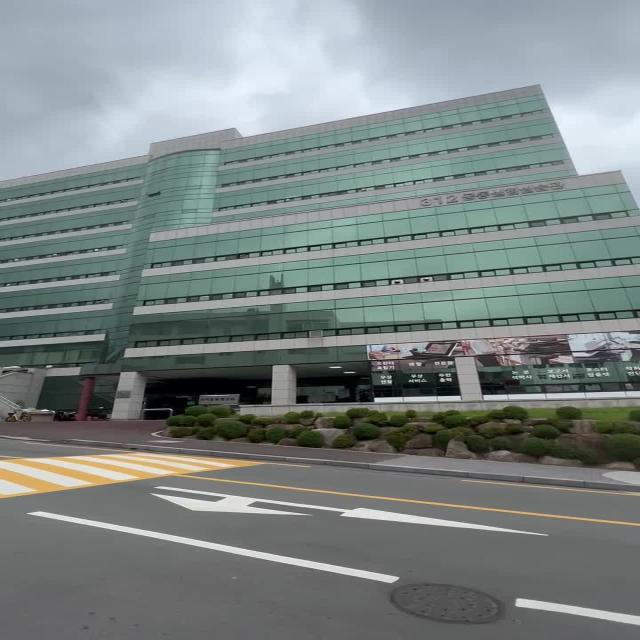building: (60, 116, 610, 334)
